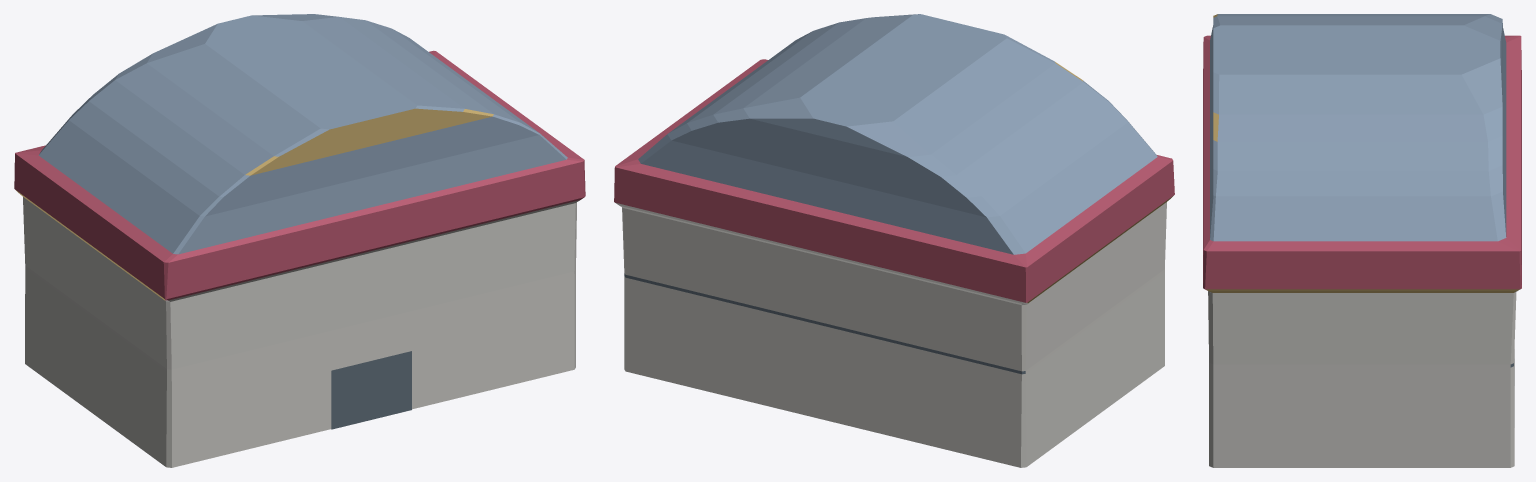
Rendered from loin.glb.
The picture shows the model from 3 angles, left to right: view 1: azimuth 30°, elevation 25°; view 2: azimuth 150°, elevation 25°; view 3: azimuth 270°, elevation 25°; orthographic projection. The views are drawn at different scales.
Parts seen in each view (by area): view 1: loin; view 2: loin; view 3: loin.
Boxes of the visible parts, x1,y1,x2,y2 form: loin: [14, 14, 585, 467]; loin: [614, 14, 1174, 467]; loin: [1203, 14, 1521, 467].
Size of the model in its own units: 0.9219 by 0.6231 by 0.5746.
